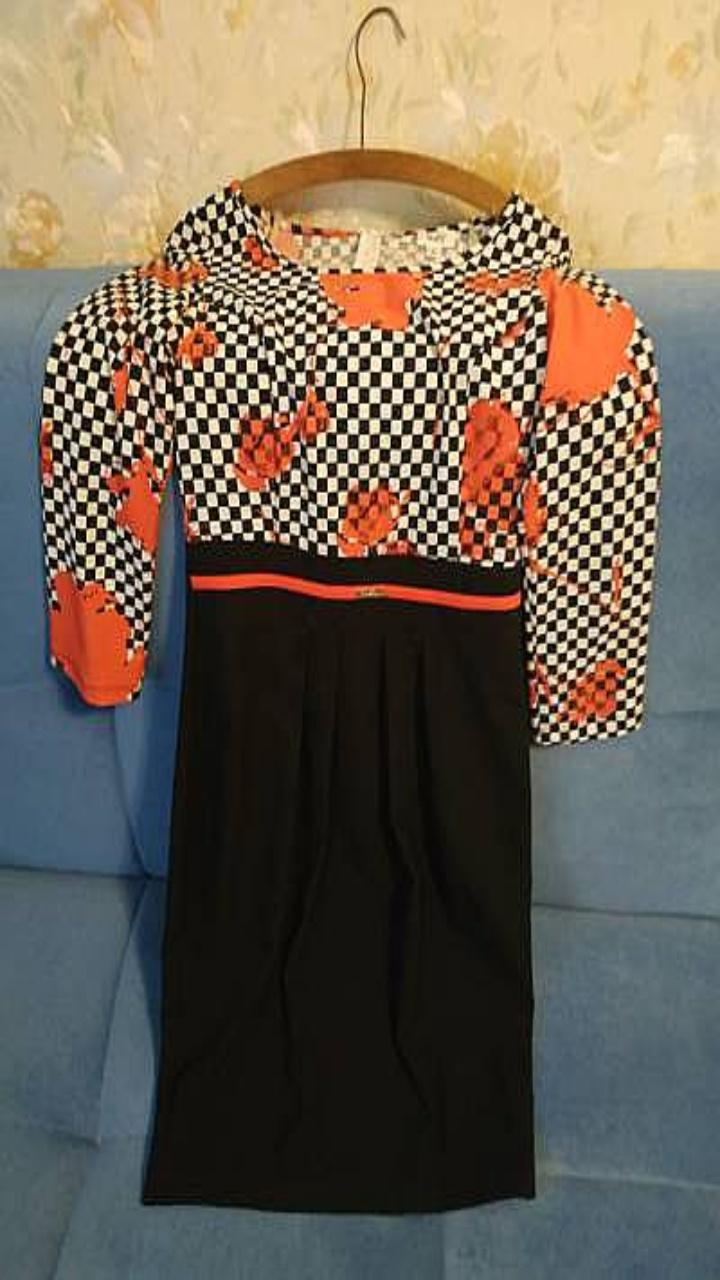Dresses: (39, 180, 660, 1212)
T-Shirt: (40, 180, 660, 743)
